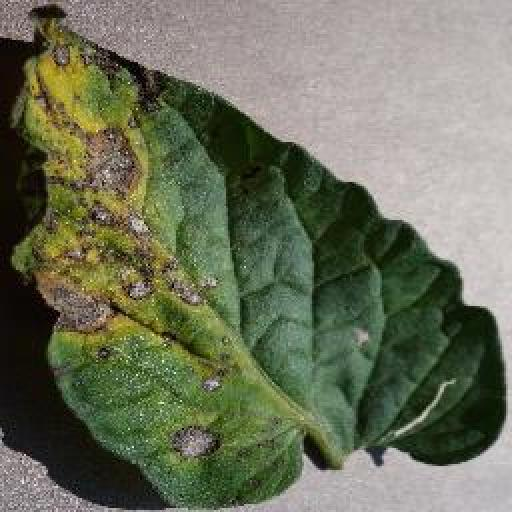Early Blight: (15, 17, 506, 512)
